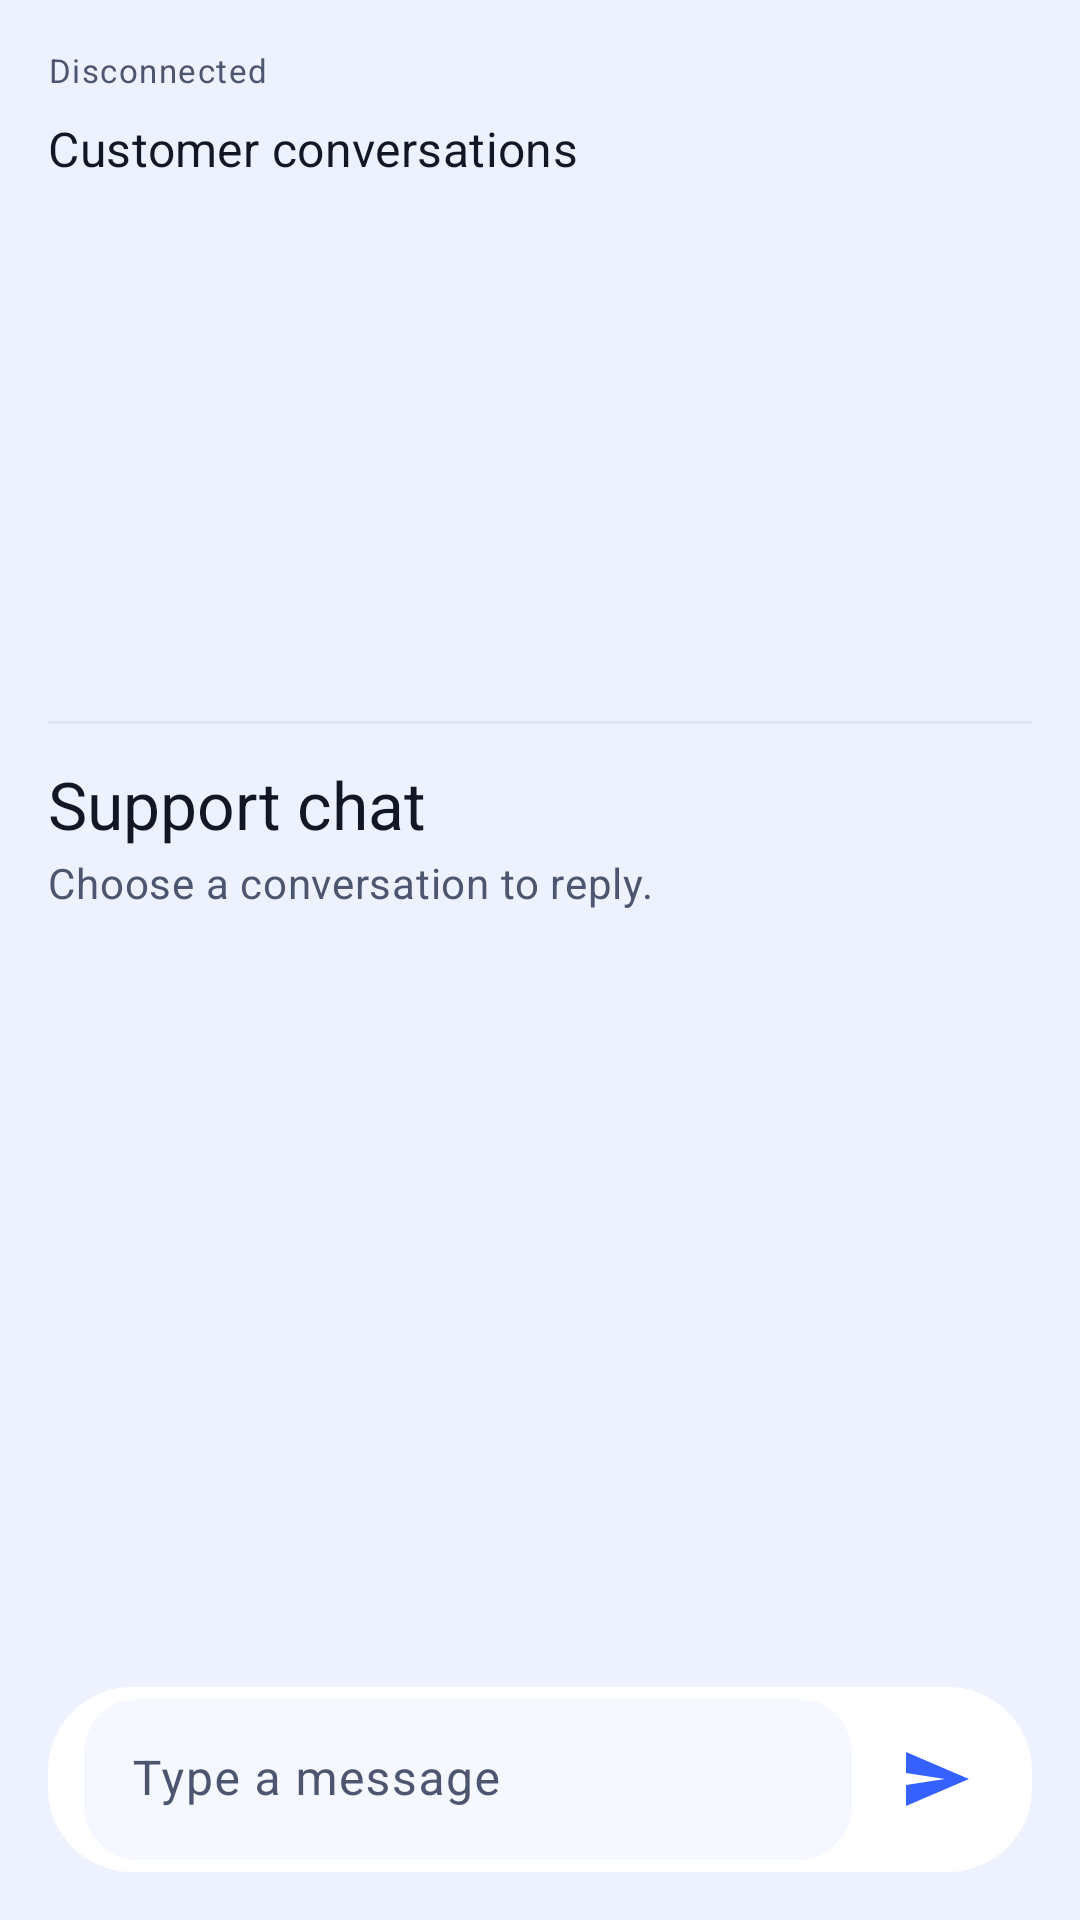

Where icons sit on this 1080 x 1920 app screen, as (x1, y1, x2, y2):
Send message: (906, 1752, 969, 1806)
